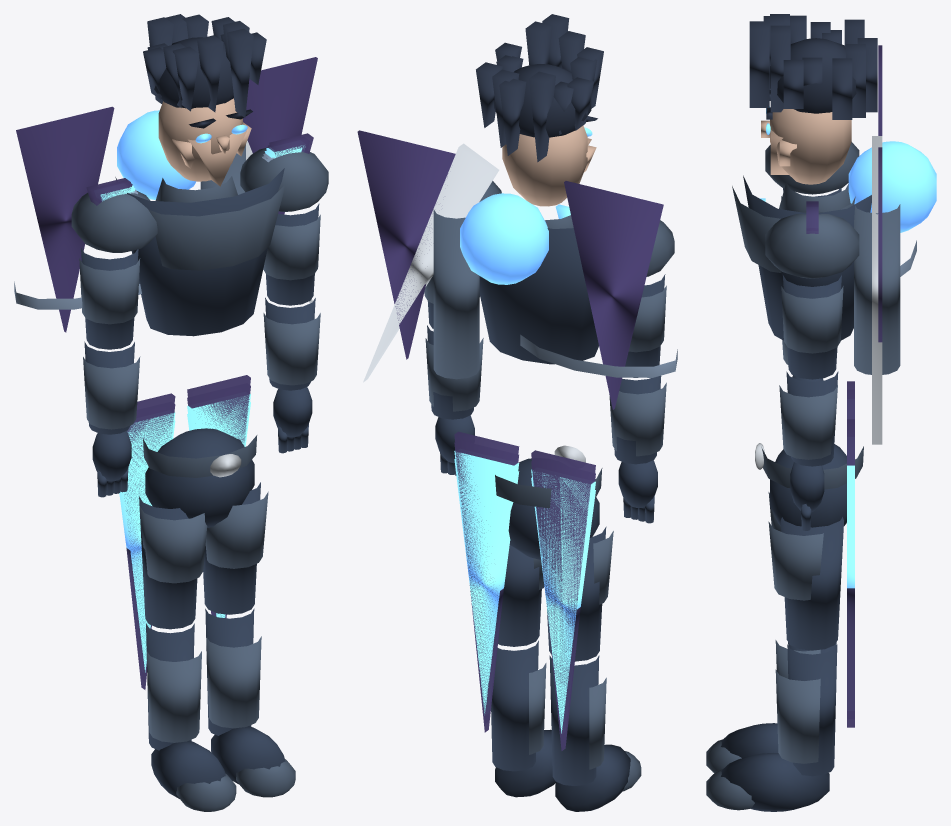
Rendered from ascend-hunter.gltf.
3 renders of one model, left to right at view 1: azimuth 30°, elevation 25°; view 2: azimuth 150°, elevation 25°; view 3: azimuth 270°, elevation 25°, orthographic. The views are drawn at different scales.
Visible parts, largest first — view 1: Torso, RANK_5_ShadowWing_-1, Chest armour, Hip armour, RANK_5_ShadowWing_1, Greave 1, Greave -1, Pauldron -1, Thigh plating -1, RANK_4_CoatTail_-1, Face sculpt, Pauldron 1 (+40 smaller); view 2: RANK_5_ShadowWing_-1, Torso, RANK_5_ShadowWing_1, RANK_5_CoatTail_-1, RANK_4_CoatTail_-1, RANK_3_CoatTail_1, CLASS_ranger_Quiver, CLASS_monk_Relic, RANK_4_CoatTail_1, CLASS_berserker_Blade, Trousers shin 1, Face sculpt (+33 smaller); view 3: CLASS_ranger_Quiver, CLASS_monk_Relic, Pauldron 1, Tailored trousers 1, Face sculpt, Boot 1, Torso, Greave 1, Bracer 1, Arm guard 1, Trousers shin 1, Thigh plating 1 (+28 smaller).
Part boxes in pixels (box(x1,y1,x2,y2)): Torso: box(115, 168, 284, 336); RANK_5_ShadowWing_-1: box(16, 106, 114, 332); Chest armour: box(148, 184, 285, 270); Hip armour: box(145, 428, 254, 527); RANK_5_ShadowWing_1: box(243, 57, 317, 214); Greave 1: box(206, 636, 261, 728); Greave -1: box(146, 651, 201, 742); Pauldron -1: box(71, 191, 157, 252); Thigh plating -1: box(139, 506, 207, 583); RANK_4_CoatTail_-1: box(123, 412, 175, 672); Face sculpt: box(158, 98, 242, 181); Pauldron 1: box(240, 147, 328, 211); RANK_5_ShadowWing_-1: box(564, 181, 663, 409); Torso: box(479, 228, 598, 364); RANK_5_ShadowWing_1: box(357, 130, 455, 359); RANK_5_CoatTail_-1: box(531, 459, 595, 741); RANK_4_CoatTail_-1: box(531, 469, 595, 733); RANK_3_CoatTail_1: box(454, 459, 519, 704); CLASS_ranger_Quiver: box(433, 209, 479, 379); CLASS_monk_Relic: box(460, 193, 548, 284); RANK_4_CoatTail_1: box(454, 451, 519, 713); CLASS_berserker_Blade: box(363, 143, 499, 382); Trousers shin 1: box(491, 640, 538, 771); Face sculpt: box(502, 125, 587, 206); CLASS_ranger_Quiver: box(854, 204, 900, 374); CLASS_monk_Relic: box(848, 141, 936, 232); Pauldron 1: box(765, 211, 859, 278); Tailored trousers 1: box(780, 517, 843, 650); Face sculpt: box(770, 109, 851, 184); Boot 1: box(721, 753, 829, 811); Torso: box(743, 175, 871, 340); Greave 1: box(775, 669, 820, 763); Bracer 1: box(779, 385, 837, 459); Arm guard 1: box(781, 286, 843, 353); Trousers shin 1: box(787, 644, 837, 776); Thigh plating 1: box(768, 521, 823, 600).
Bounding box in the file's own units: 1.17 × 2.78 × 0.7461.
